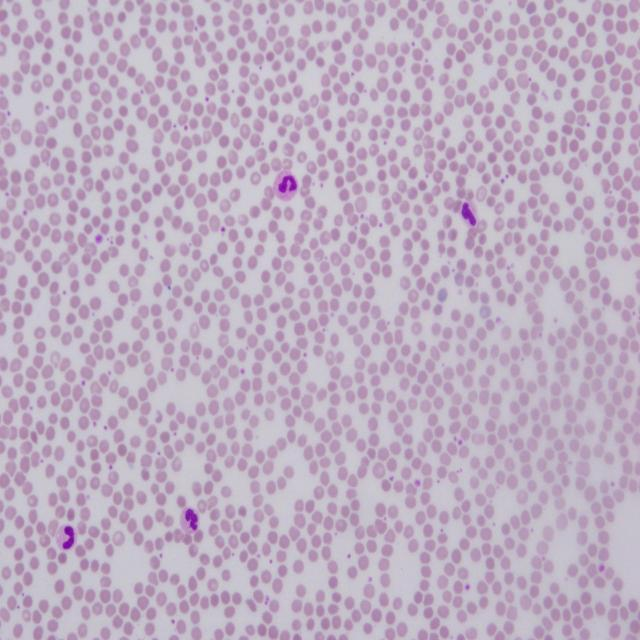cell: (274, 171, 299, 201), (180, 508, 199, 534)
